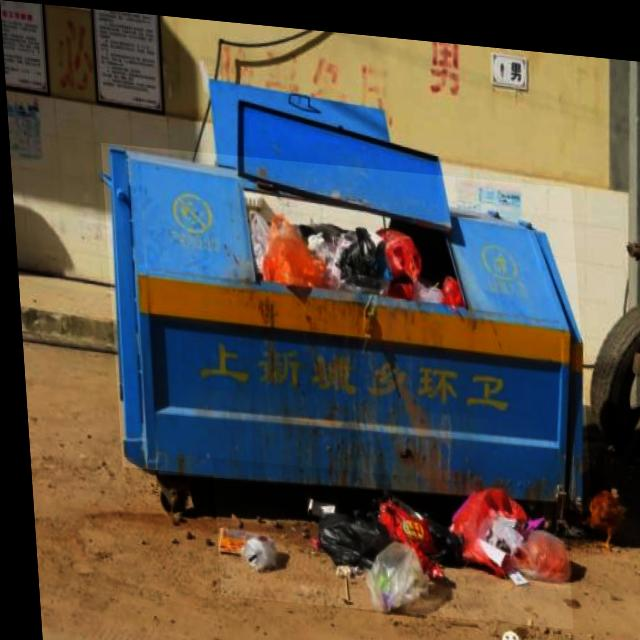garbage: (207, 454, 566, 618)
overflow: (99, 141, 586, 501)
